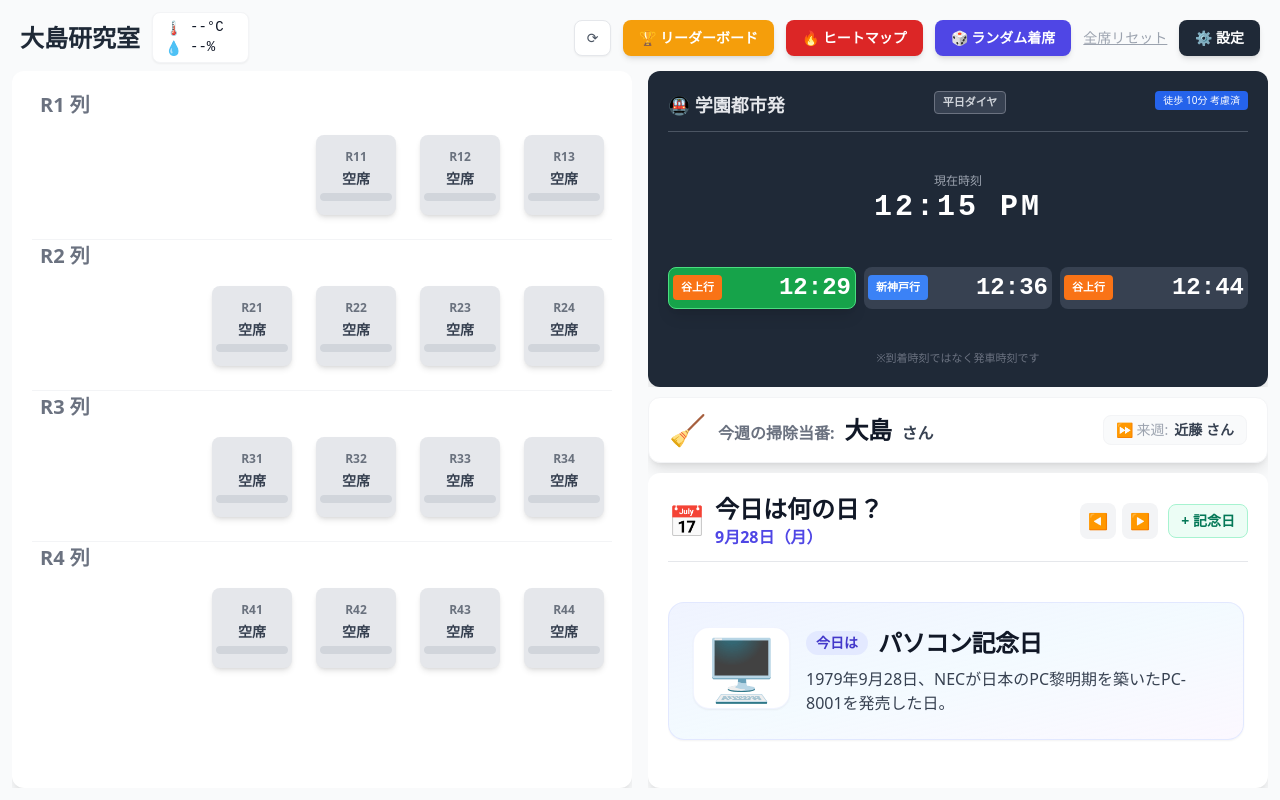
Test case: seat management - seating and clearing › assigns random seat
Step 1. Click the button "🎲 ランダム着席" → (1003, 38), box [935,20,1071,56]
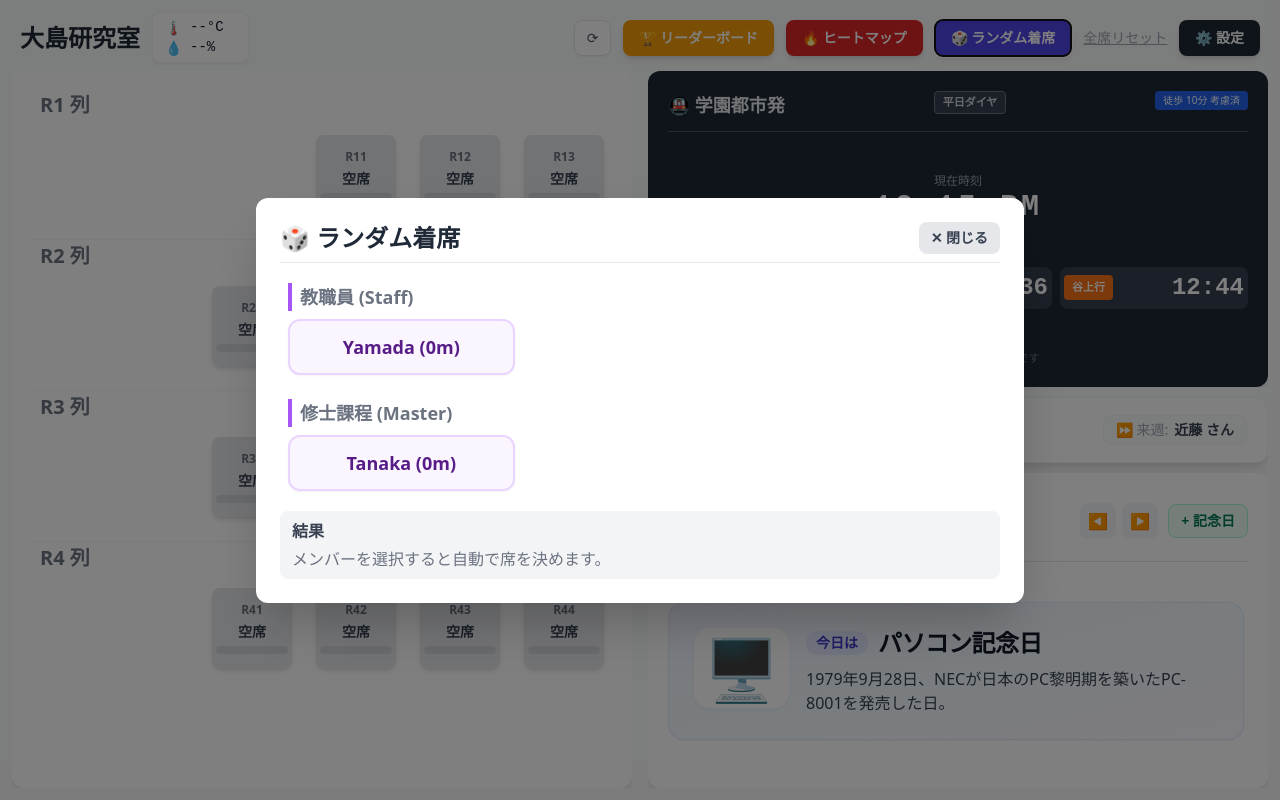
Step 2. Click the button "Yamada (0m)" → (401, 346), box [288,318,515,374]
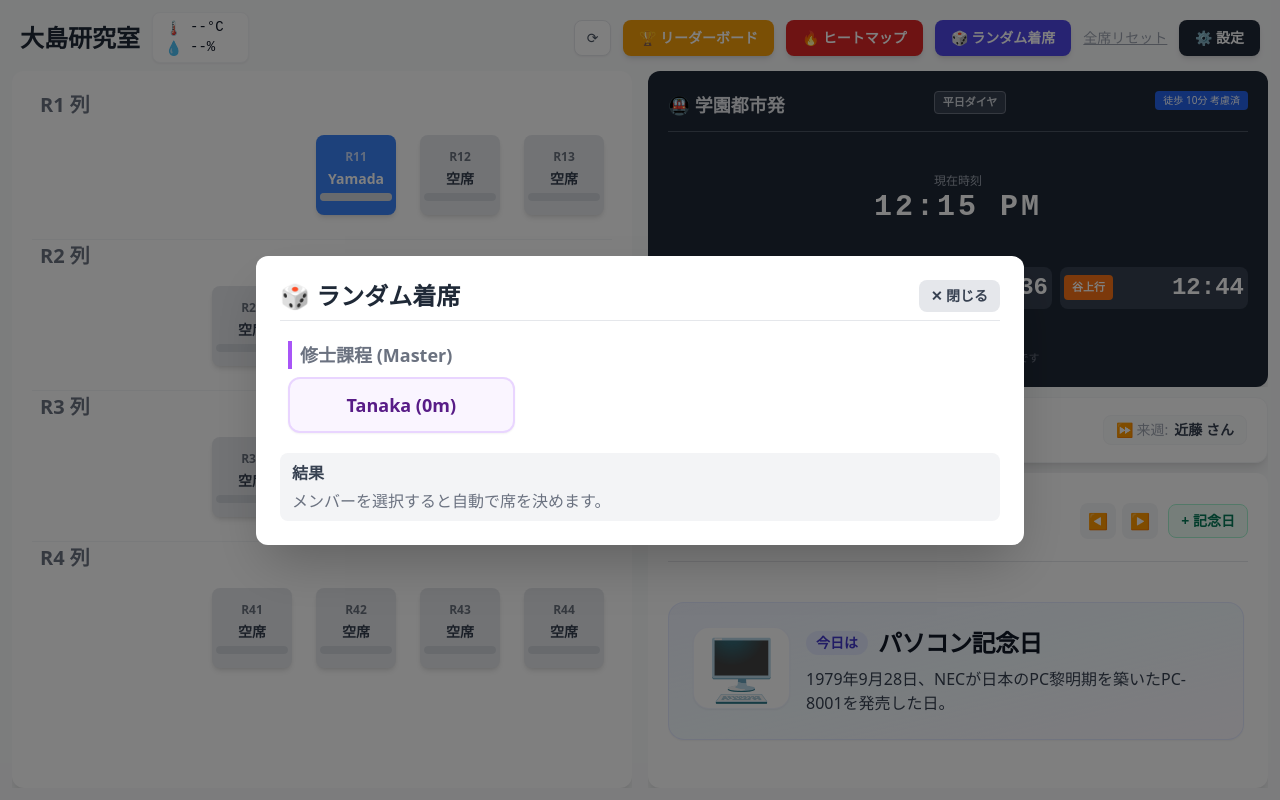
Now the text "R11" shows "Yamada", box [328,169,384,188]
